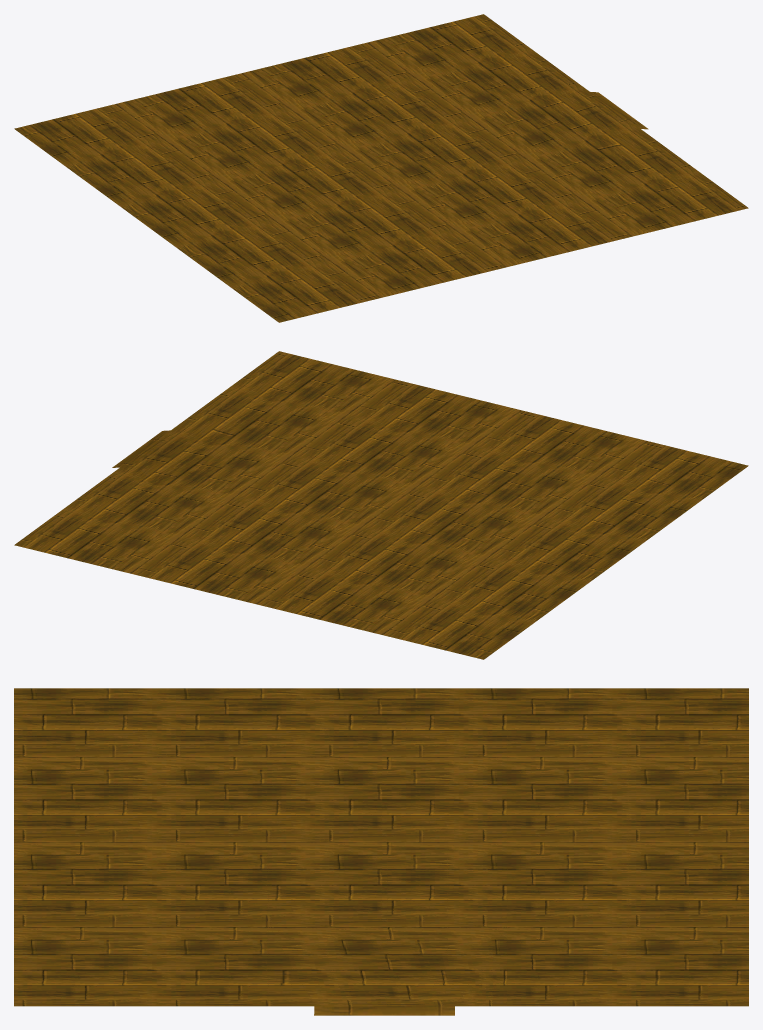
File: HTOWN01_MILLFLOOR.fbx
3 views of the same model, one above another, from view 1: azimuth 30°, elevation 25°; view 2: azimuth 150°, elevation 25°; view 3: azimuth 270°, elevation 25° (orthographic). The views are drawn at different scales.
Visible parts, largest first — view 1: HTOWN01_MILLFLOOR; view 2: HTOWN01_MILLFLOOR; view 3: HTOWN01_MILLFLOOR.
Part boxes in pixels (x1,y1,x2,y2): HTOWN01_MILLFLOOR: (14, 14, 748, 322); HTOWN01_MILLFLOOR: (14, 351, 748, 659); HTOWN01_MILLFLOOR: (14, 688, 748, 1015).
Size of the model in its own units: 130607 by 676 by 125391.
Materials: 1 (1 with a texture image).
